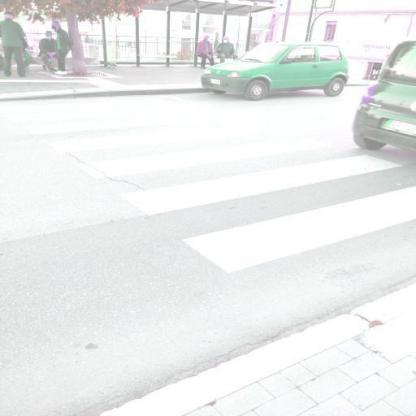crosswalk: (70, 134, 410, 219)
